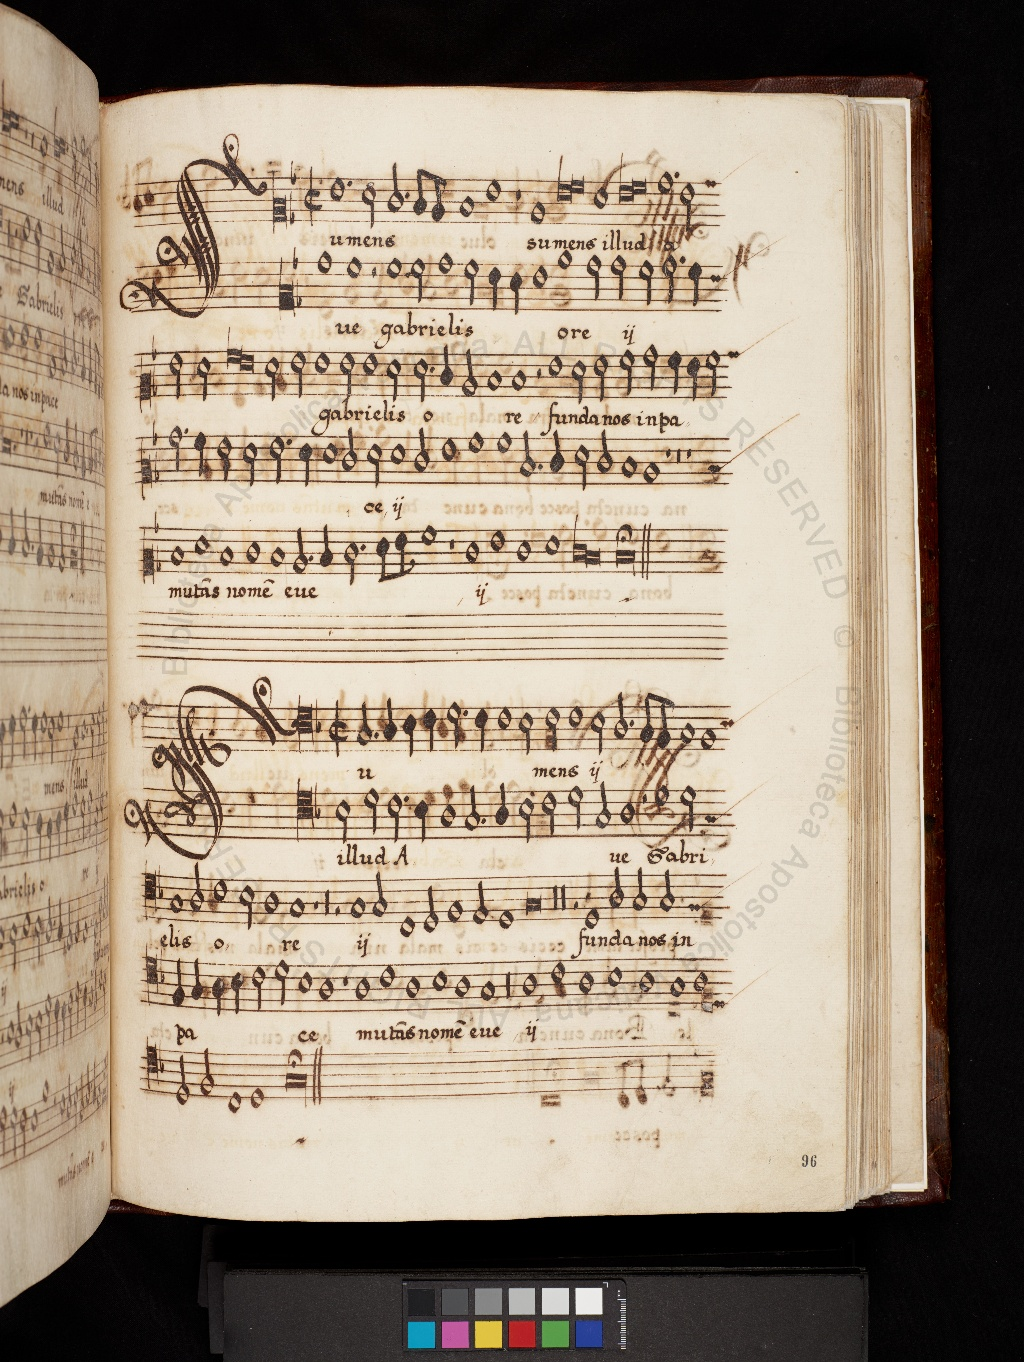Imincut: (300, 162, 328, 231)
c clef_9: (268, 183, 290, 238)
custos_3: (699, 160, 734, 204)
flat_3: (284, 153, 301, 191), (285, 184, 299, 231)
fusa_8: (410, 158, 432, 226)
fusa_9: (430, 160, 450, 232)
l1semibreve_5: (613, 146, 634, 210), (553, 148, 572, 207)
l2semibreve_4: (567, 173, 587, 200), (628, 174, 648, 199)
minim rest: (504, 173, 530, 227)
minim_5: (677, 175, 700, 239)
minim_6: (357, 175, 380, 235)
minim_8: (383, 156, 403, 221)
point: (340, 172, 355, 193), (398, 186, 413, 207), (312, 172, 326, 191)
semibreve_10: (525, 193, 549, 232)
semibreve_3: (654, 167, 675, 226)
semibreve_5: (481, 171, 506, 211), (324, 169, 346, 212)
semibreve_6: (593, 181, 611, 217)
semibreve_8: (455, 186, 479, 227)
